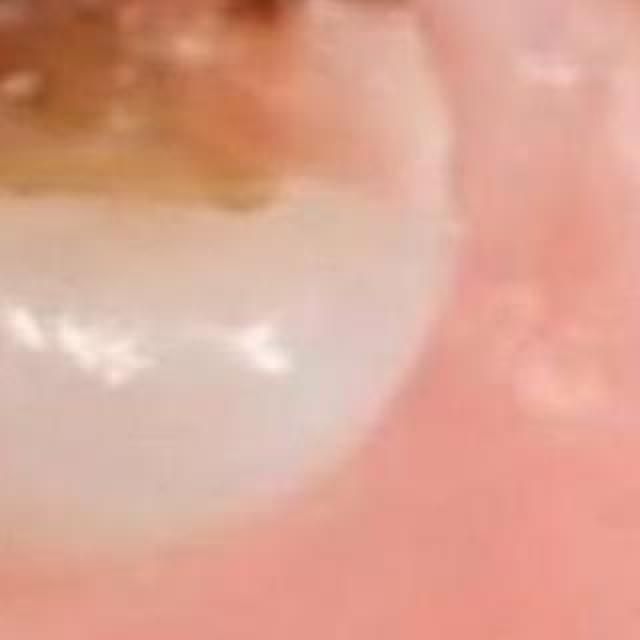cavities: (0, 0, 538, 590)
